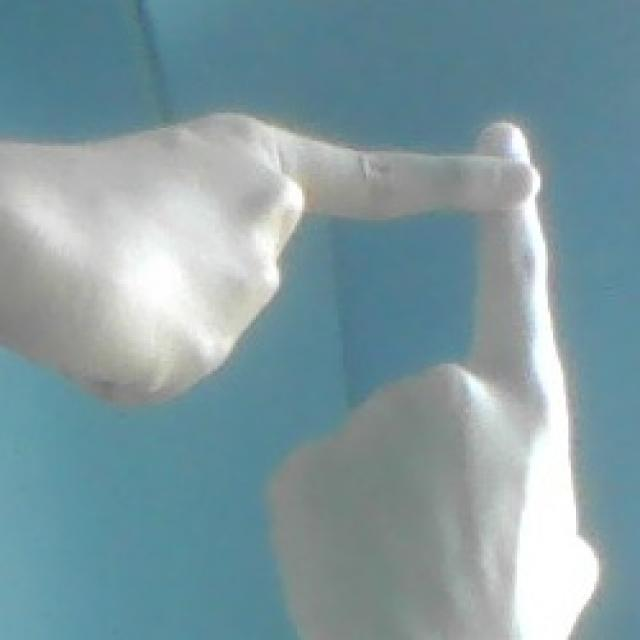Alphabet-J: (1, 74, 607, 627)
